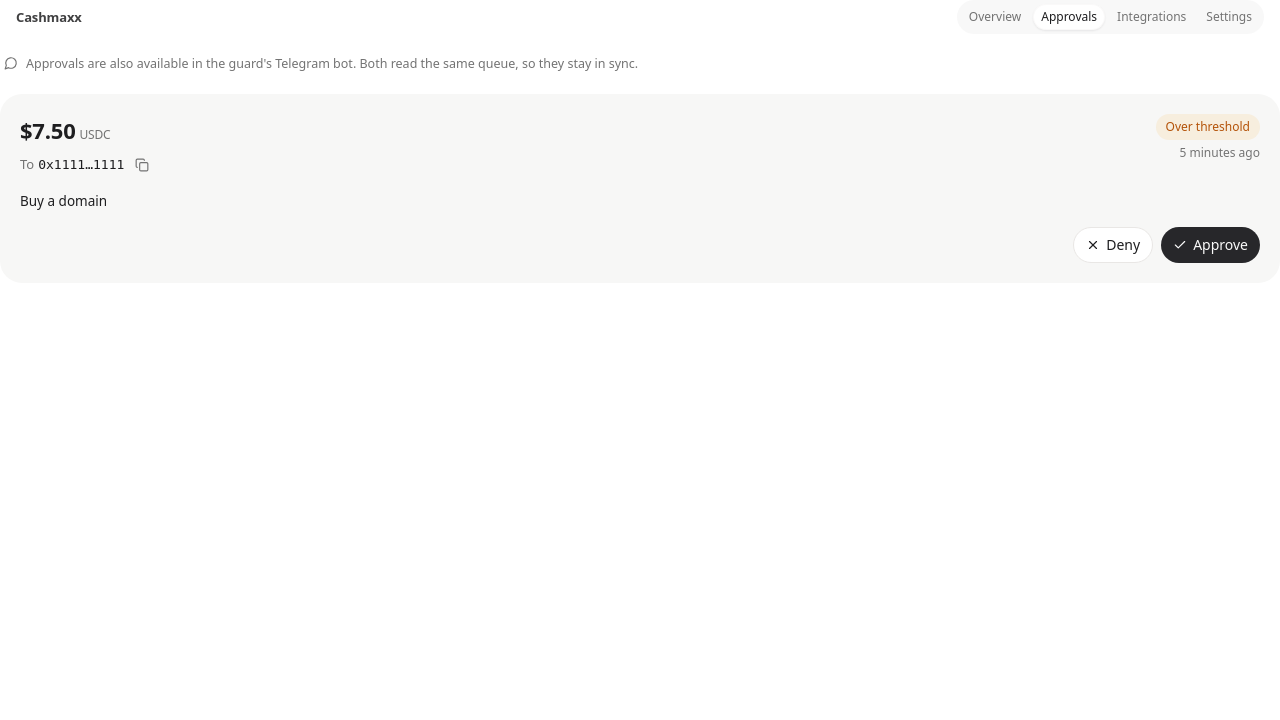
Test case: Cashmaxx approvals › asks for the PIN again when the guard rejects the session
The image size is (1280, 720).
Click the button "Approve" at (1211, 245), box [1161,227,1260,263]
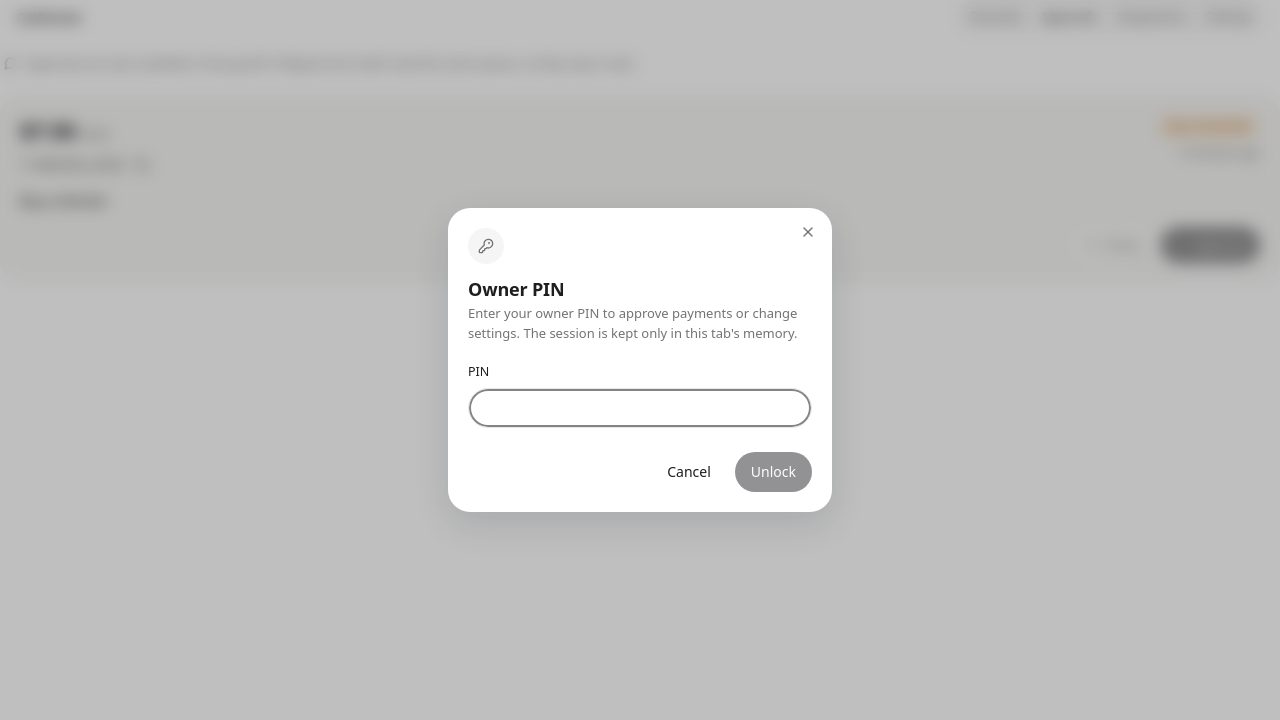
Type "1234" into the password field labelled "PIN" at (640, 408), box [468,388,812,428]
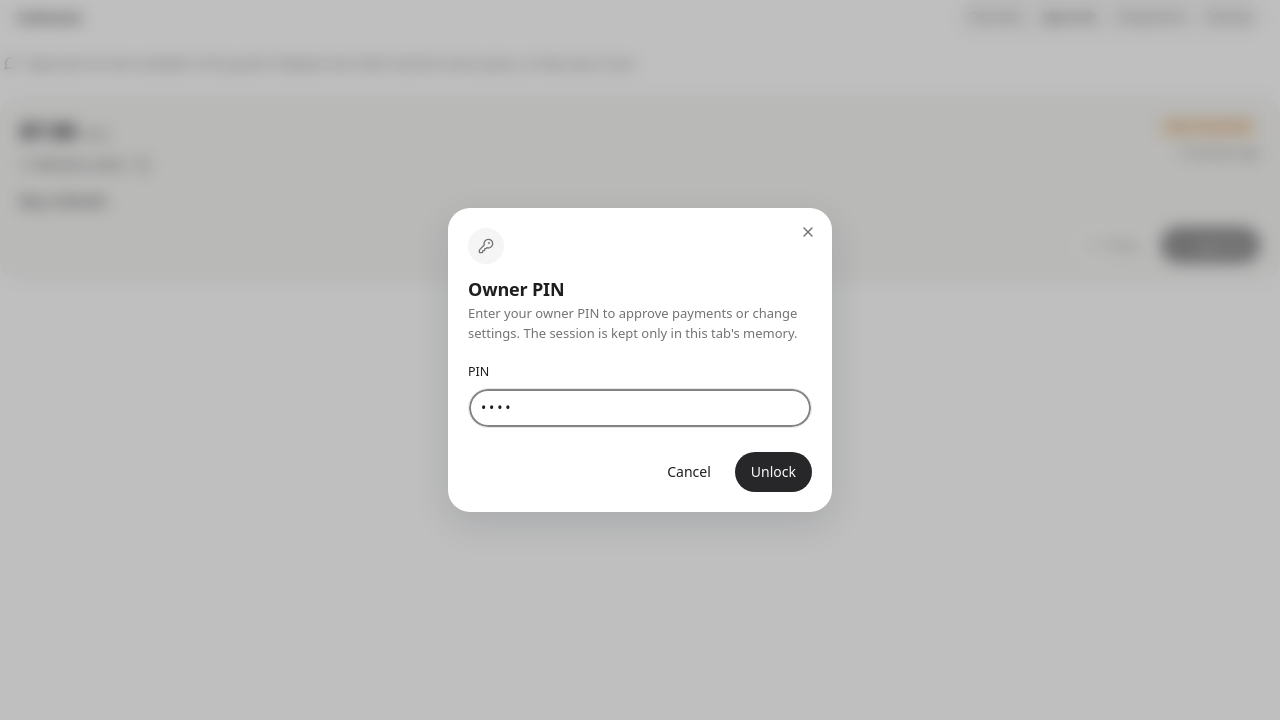
Click the button "Unlock" at (773, 472), box [735,452,812,492]
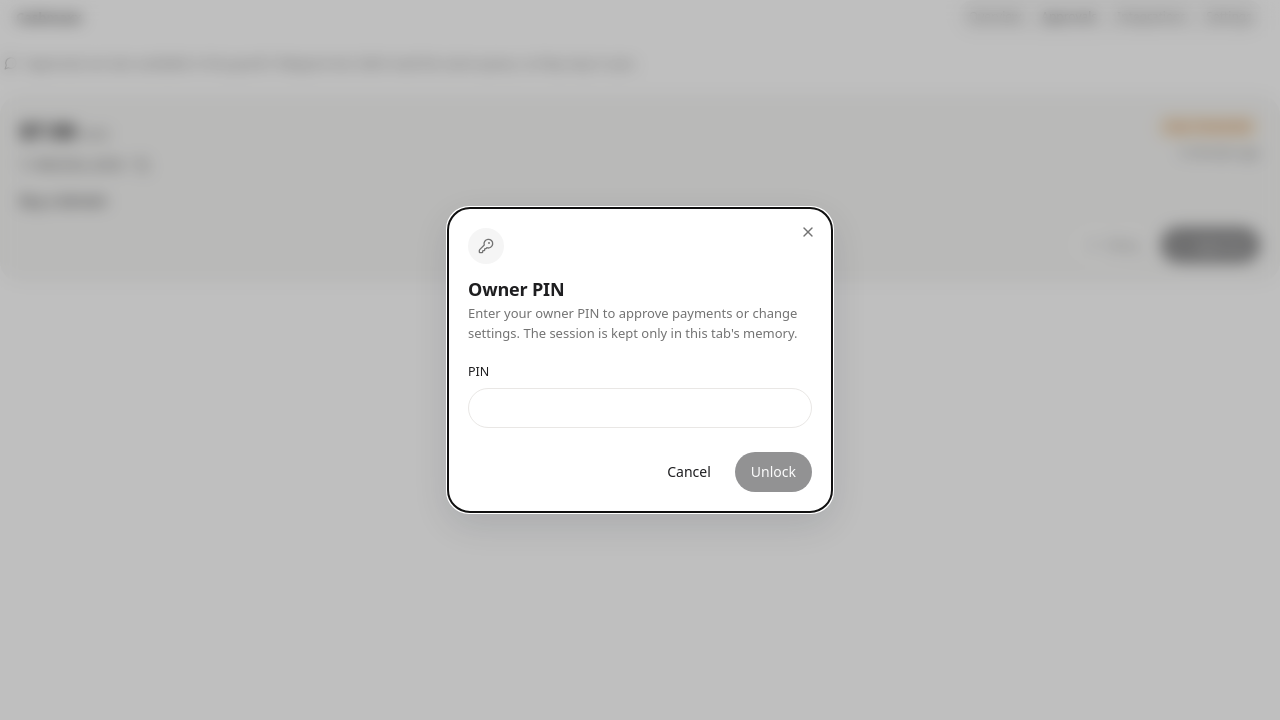
Type "5678" into the password field labelled "PIN" at (640, 408), box [468,388,812,428]
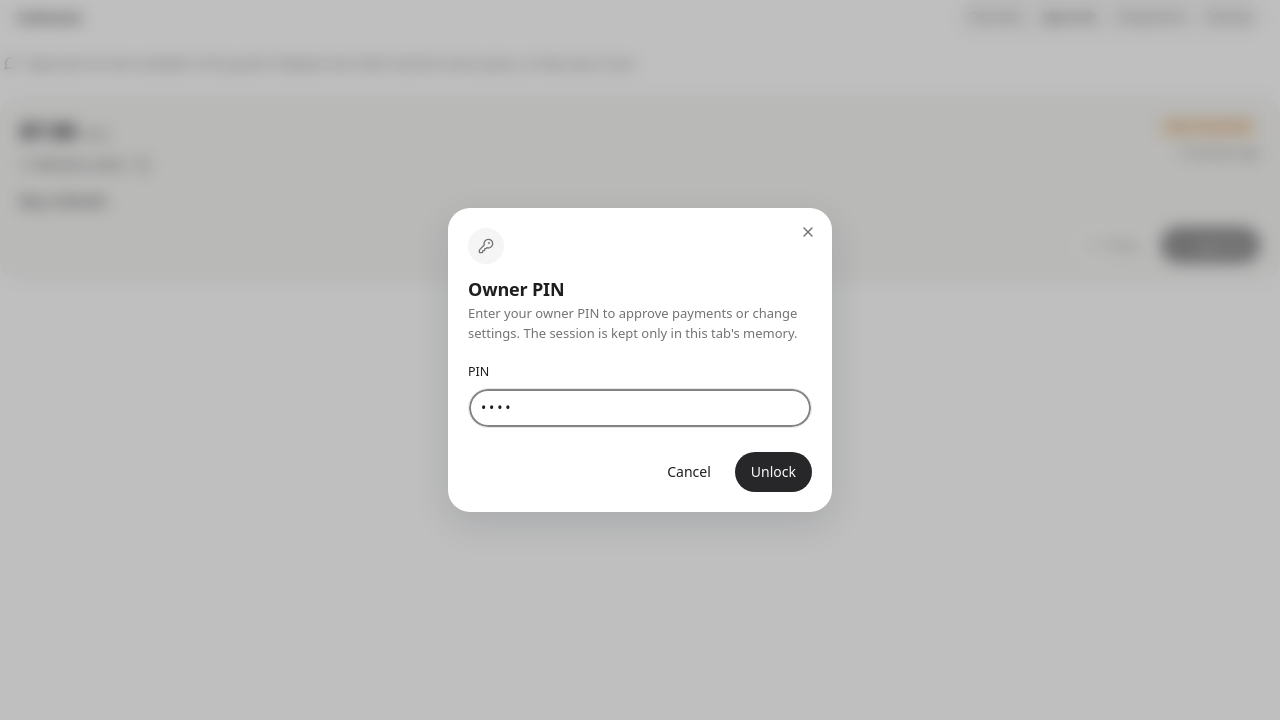
Click the button "Unlock" at (773, 472), box [735,452,812,492]
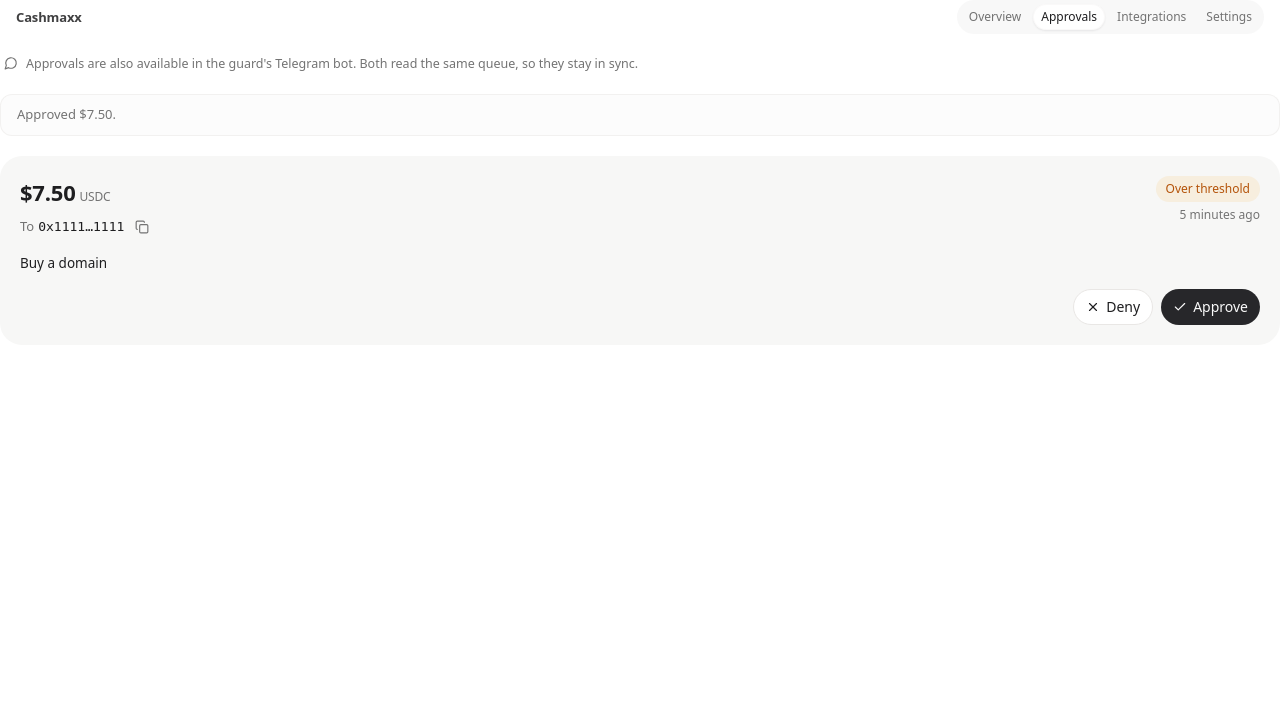
Expected: the heading "Owner PIN" is gone
